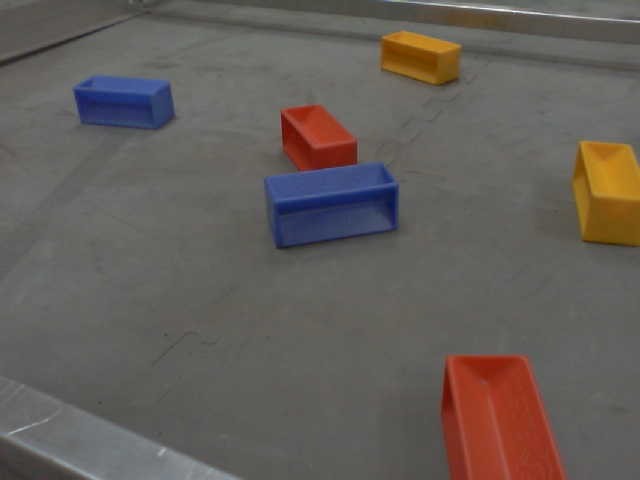BlueSample: (263, 157, 402, 254), (71, 72, 180, 131)
RedSample: (437, 350, 568, 480), (277, 101, 361, 176)
YellowSample: (568, 137, 640, 250), (377, 27, 462, 87)
